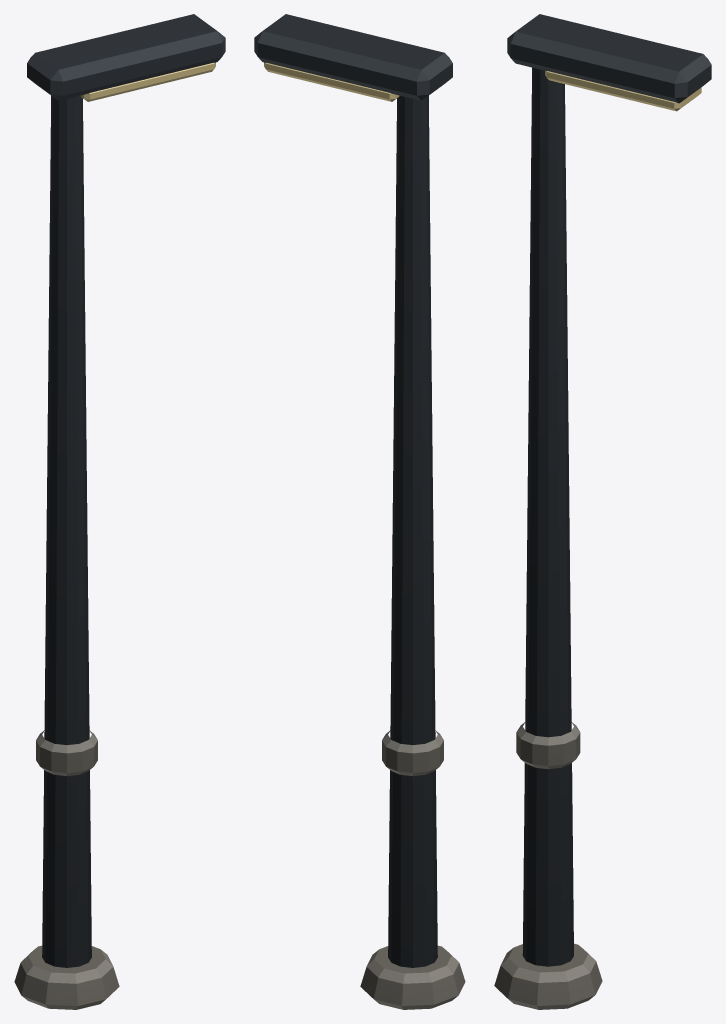
Rendered from street-lamp-v1.glb.
The picture shows the model from 3 angles, left to right: view 1: azimuth 30°, elevation 25°; view 2: azimuth 150°, elevation 25°; view 3: azimuth 330°, elevation 25°; orthographic projection. The views are drawn at different scales.
Parts seen in each view (by area): view 1: street-lamp-v1.lod0; view 2: street-lamp-v1.lod0; view 3: street-lamp-v1.lod0.
Boxes of the visible parts, x1,y1,x2,y2 form: street-lamp-v1.lod0: [14, 14, 225, 1009]; street-lamp-v1.lod0: [254, 14, 465, 1009]; street-lamp-v1.lod0: [494, 14, 711, 1009].
Size of the model in its own units: 1.43 by 6.63 by 0.6467.
